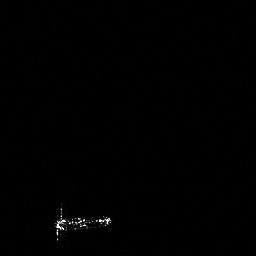ship: (54, 205, 114, 242)
